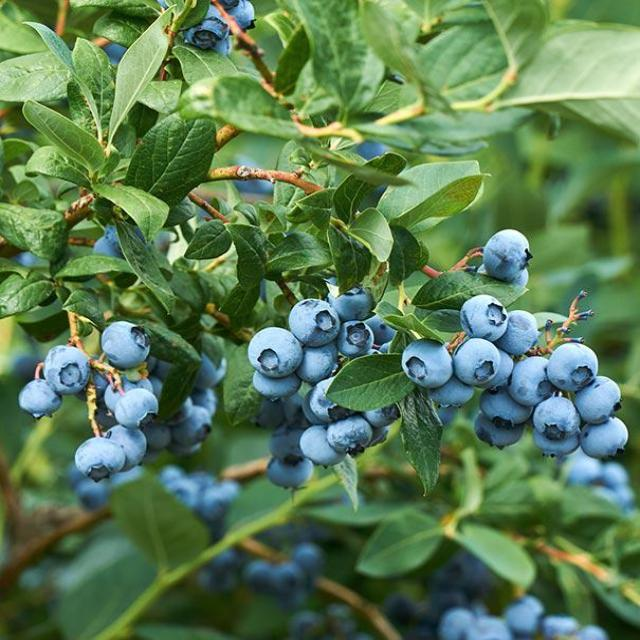BlueBerry - v1: (392, 336, 459, 392), (97, 314, 158, 374), (244, 324, 309, 379), (478, 224, 538, 283), (282, 293, 344, 348), (543, 341, 603, 397), (69, 436, 130, 488), (568, 366, 623, 423), (572, 412, 632, 462), (448, 335, 502, 390), (38, 343, 94, 395), (294, 420, 348, 472), (510, 350, 558, 407), (455, 293, 513, 340), (264, 450, 320, 498), (473, 384, 533, 428), (10, 375, 66, 422), (103, 422, 150, 478), (291, 341, 347, 386), (494, 306, 542, 358), (108, 384, 160, 430), (531, 392, 583, 438), (322, 414, 376, 458), (470, 416, 533, 452), (248, 367, 306, 405), (328, 282, 379, 325), (167, 398, 214, 444), (262, 420, 311, 464), (186, 345, 232, 390), (183, 16, 230, 58), (334, 317, 377, 360), (80, 227, 129, 264), (528, 428, 580, 460), (308, 380, 349, 420), (226, 0, 262, 34), (365, 310, 398, 345)
